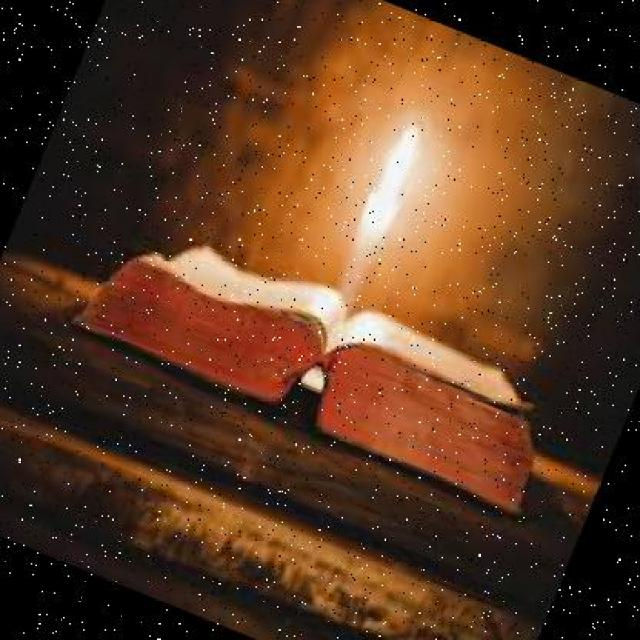fire: (355, 115, 440, 231)
